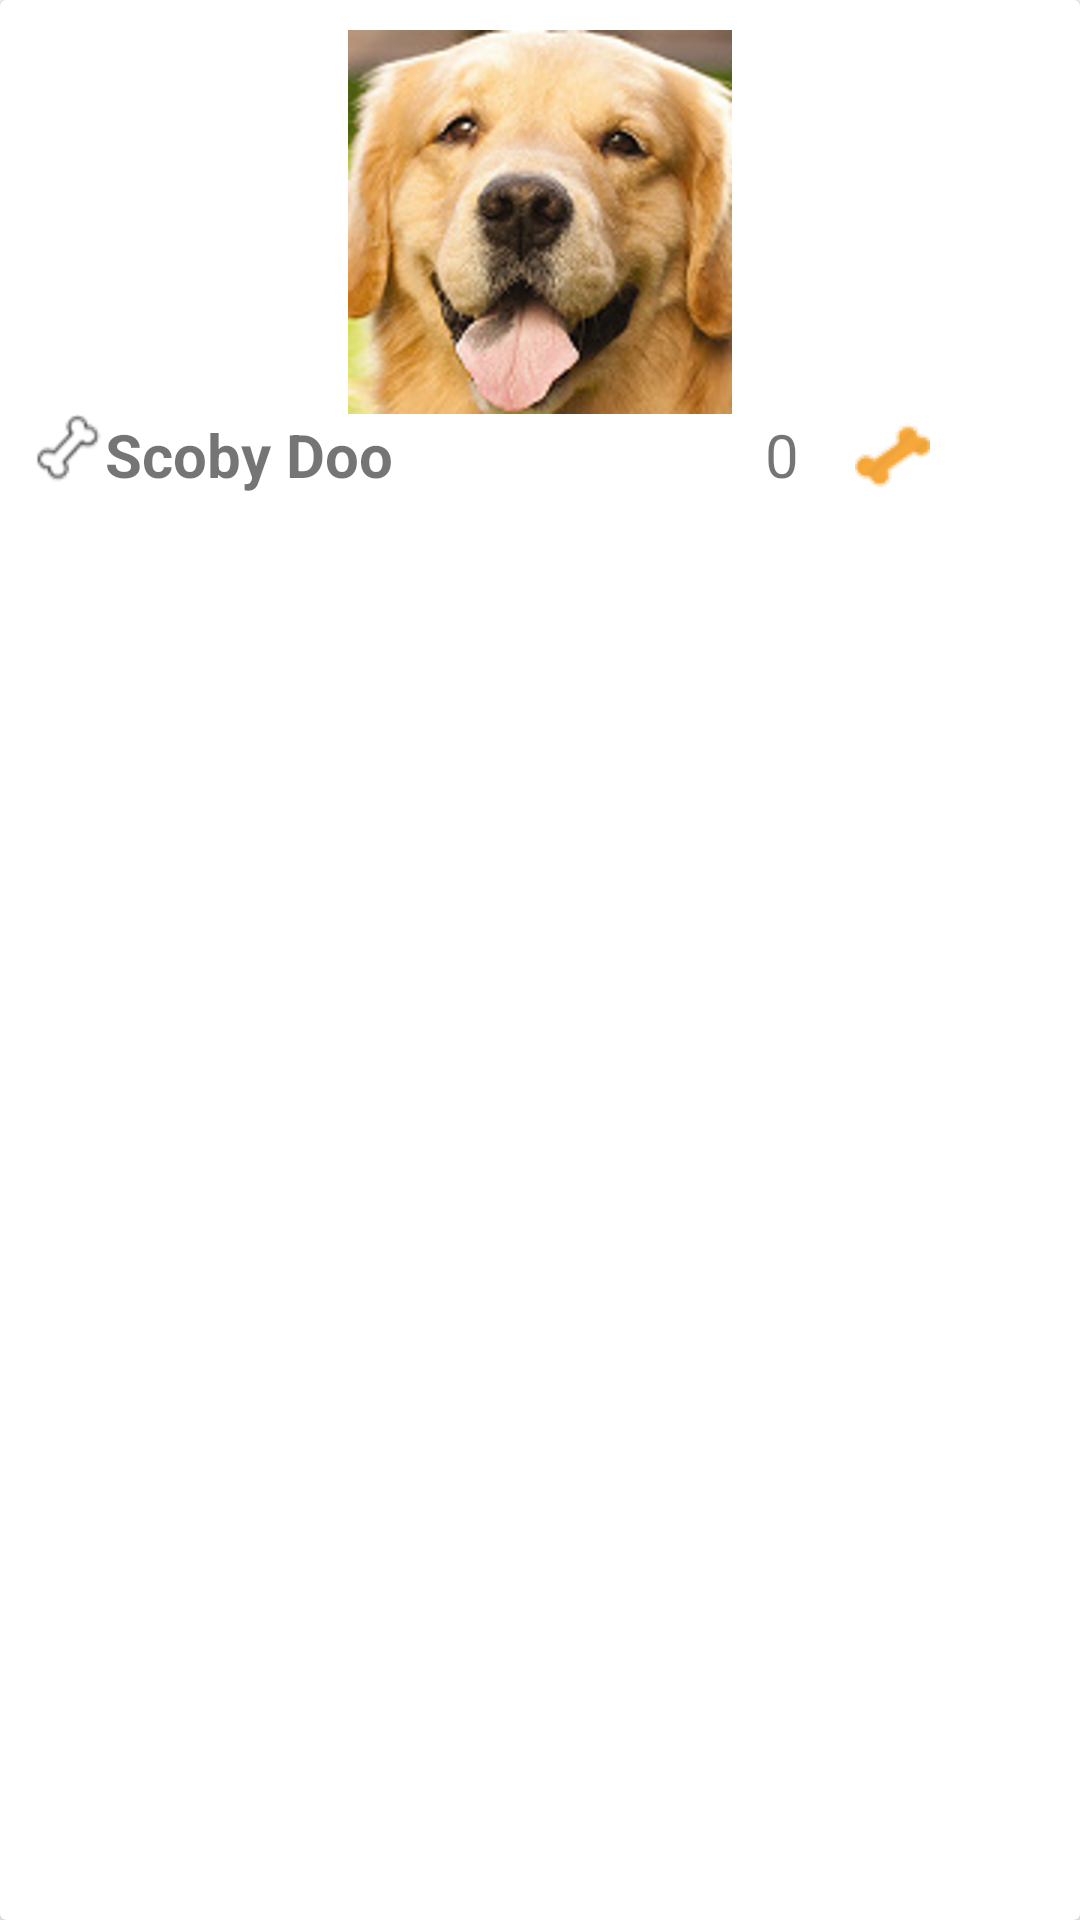

Where icons sit on this 1080x1920 app screen, as [x1,y1,x2,y2]:
hueso amarillo: [855,425,930,487]
hueso blanco: [37,415,100,480]
